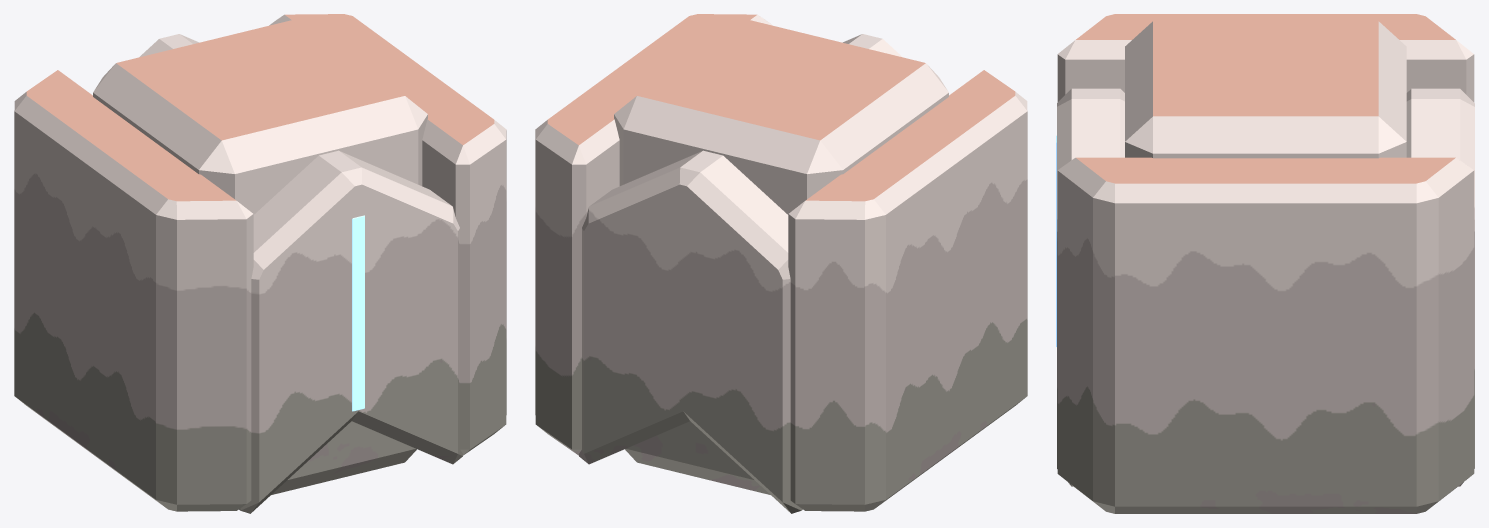
Rendered from R4X_HullBooster_LOD1.glb.
3 renders of one model, left to right at view 1: azimuth 30°, elevation 25°; view 2: azimuth 150°, elevation 25°; view 3: azimuth 270°, elevation 25°, orthographic. The views are drawn at different scales.
Parts seen in each view (by area): view 1: R4X_HullBooster_LOD1; view 2: R4X_HullBooster_LOD1; view 3: R4X_HullBooster_LOD1.
Boxes of the visible parts, x1,y1,x2,y2 form: R4X_HullBooster_LOD1: [14, 14, 506, 513]; R4X_HullBooster_LOD1: [535, 14, 1027, 513]; R4X_HullBooster_LOD1: [1056, 14, 1474, 513].
Size of the model in its own units: 0.52 by 0.52 by 0.5053.
3 materials, 2 textured.
